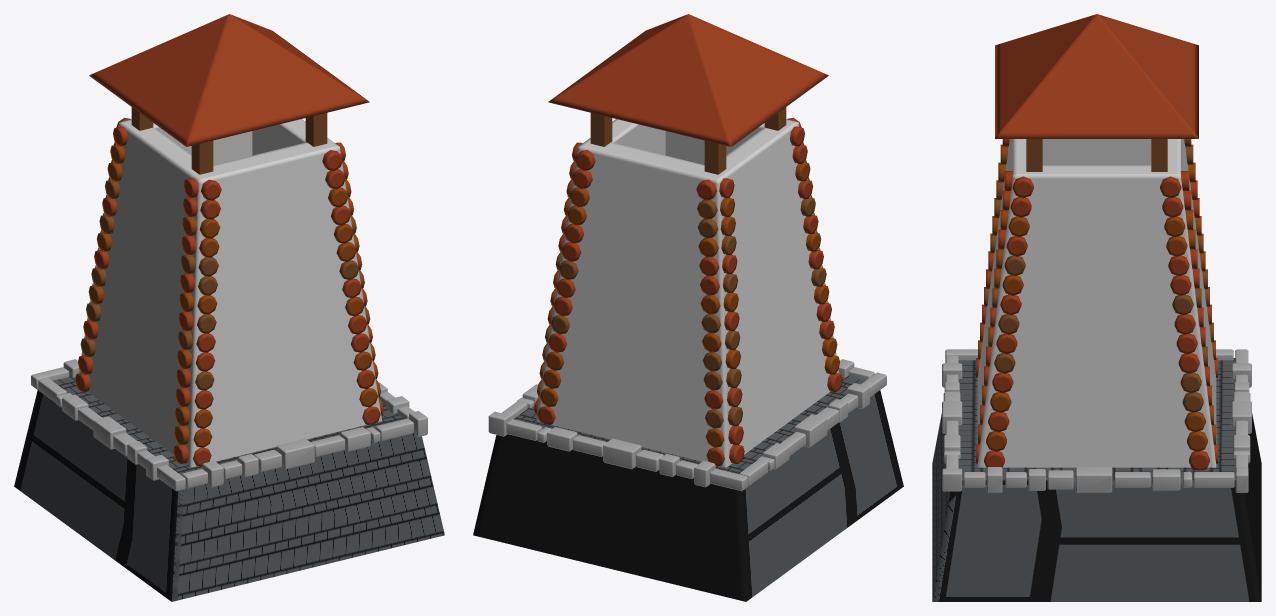
The model's file is LargeWoodTower.fbx.
3 views of the same model, side by side, from view 1: azimuth 30°, elevation 25°; view 2: azimuth 150°, elevation 25°; view 3: azimuth 270°, elevation 25° (orthographic). The views are drawn at different scales.
Visible parts, largest first — view 1: LargeTowerMain, LargeTowerBase, LargeTowerShingles, LargeTowerPoles, LargeTowerBricks, LargeTowerPillars; view 2: LargeTowerMain, LargeTowerBase, LargeTowerShingles, LargeTowerPoles, LargeTowerBricks, LargeTowerPillars; view 3: LargeTowerMain, LargeTowerBase, LargeTowerShingles, LargeTowerPoles, LargeTowerBricks, LargeTowerPillars.
Part boxes in pixels (x1,y1,x2,y2): LargeTowerMain: (78,119,381,467); LargeTowerBase: (14,375,444,601); LargeTowerShingles: (89,14,369,146); LargeTowerPoles: (75,117,383,466); LargeTowerBricks: (31,359,427,491); LargeTowerPillars: (131,107,327,174); LargeTowerMain: (536,119,839,467); LargeTowerBase: (473,375,903,601); LargeTowerShingles: (548,14,828,146); LargeTowerPoles: (534,117,842,466); LargeTowerBricks: (488,359,886,491); LargeTowerPillars: (590,107,786,174); LargeTowerMain: (977,139,1216,467); LargeTowerBase: (932,358,1261,601); LargeTowerShingles: (995,14,1198,138); LargeTowerPoles: (976,139,1217,470); LargeTowerBricks: (942,349,1251,492); LargeTowerPillars: (1026,139,1167,171).
Bounding box in the file's own units: 8 × 13.91 × 8.
